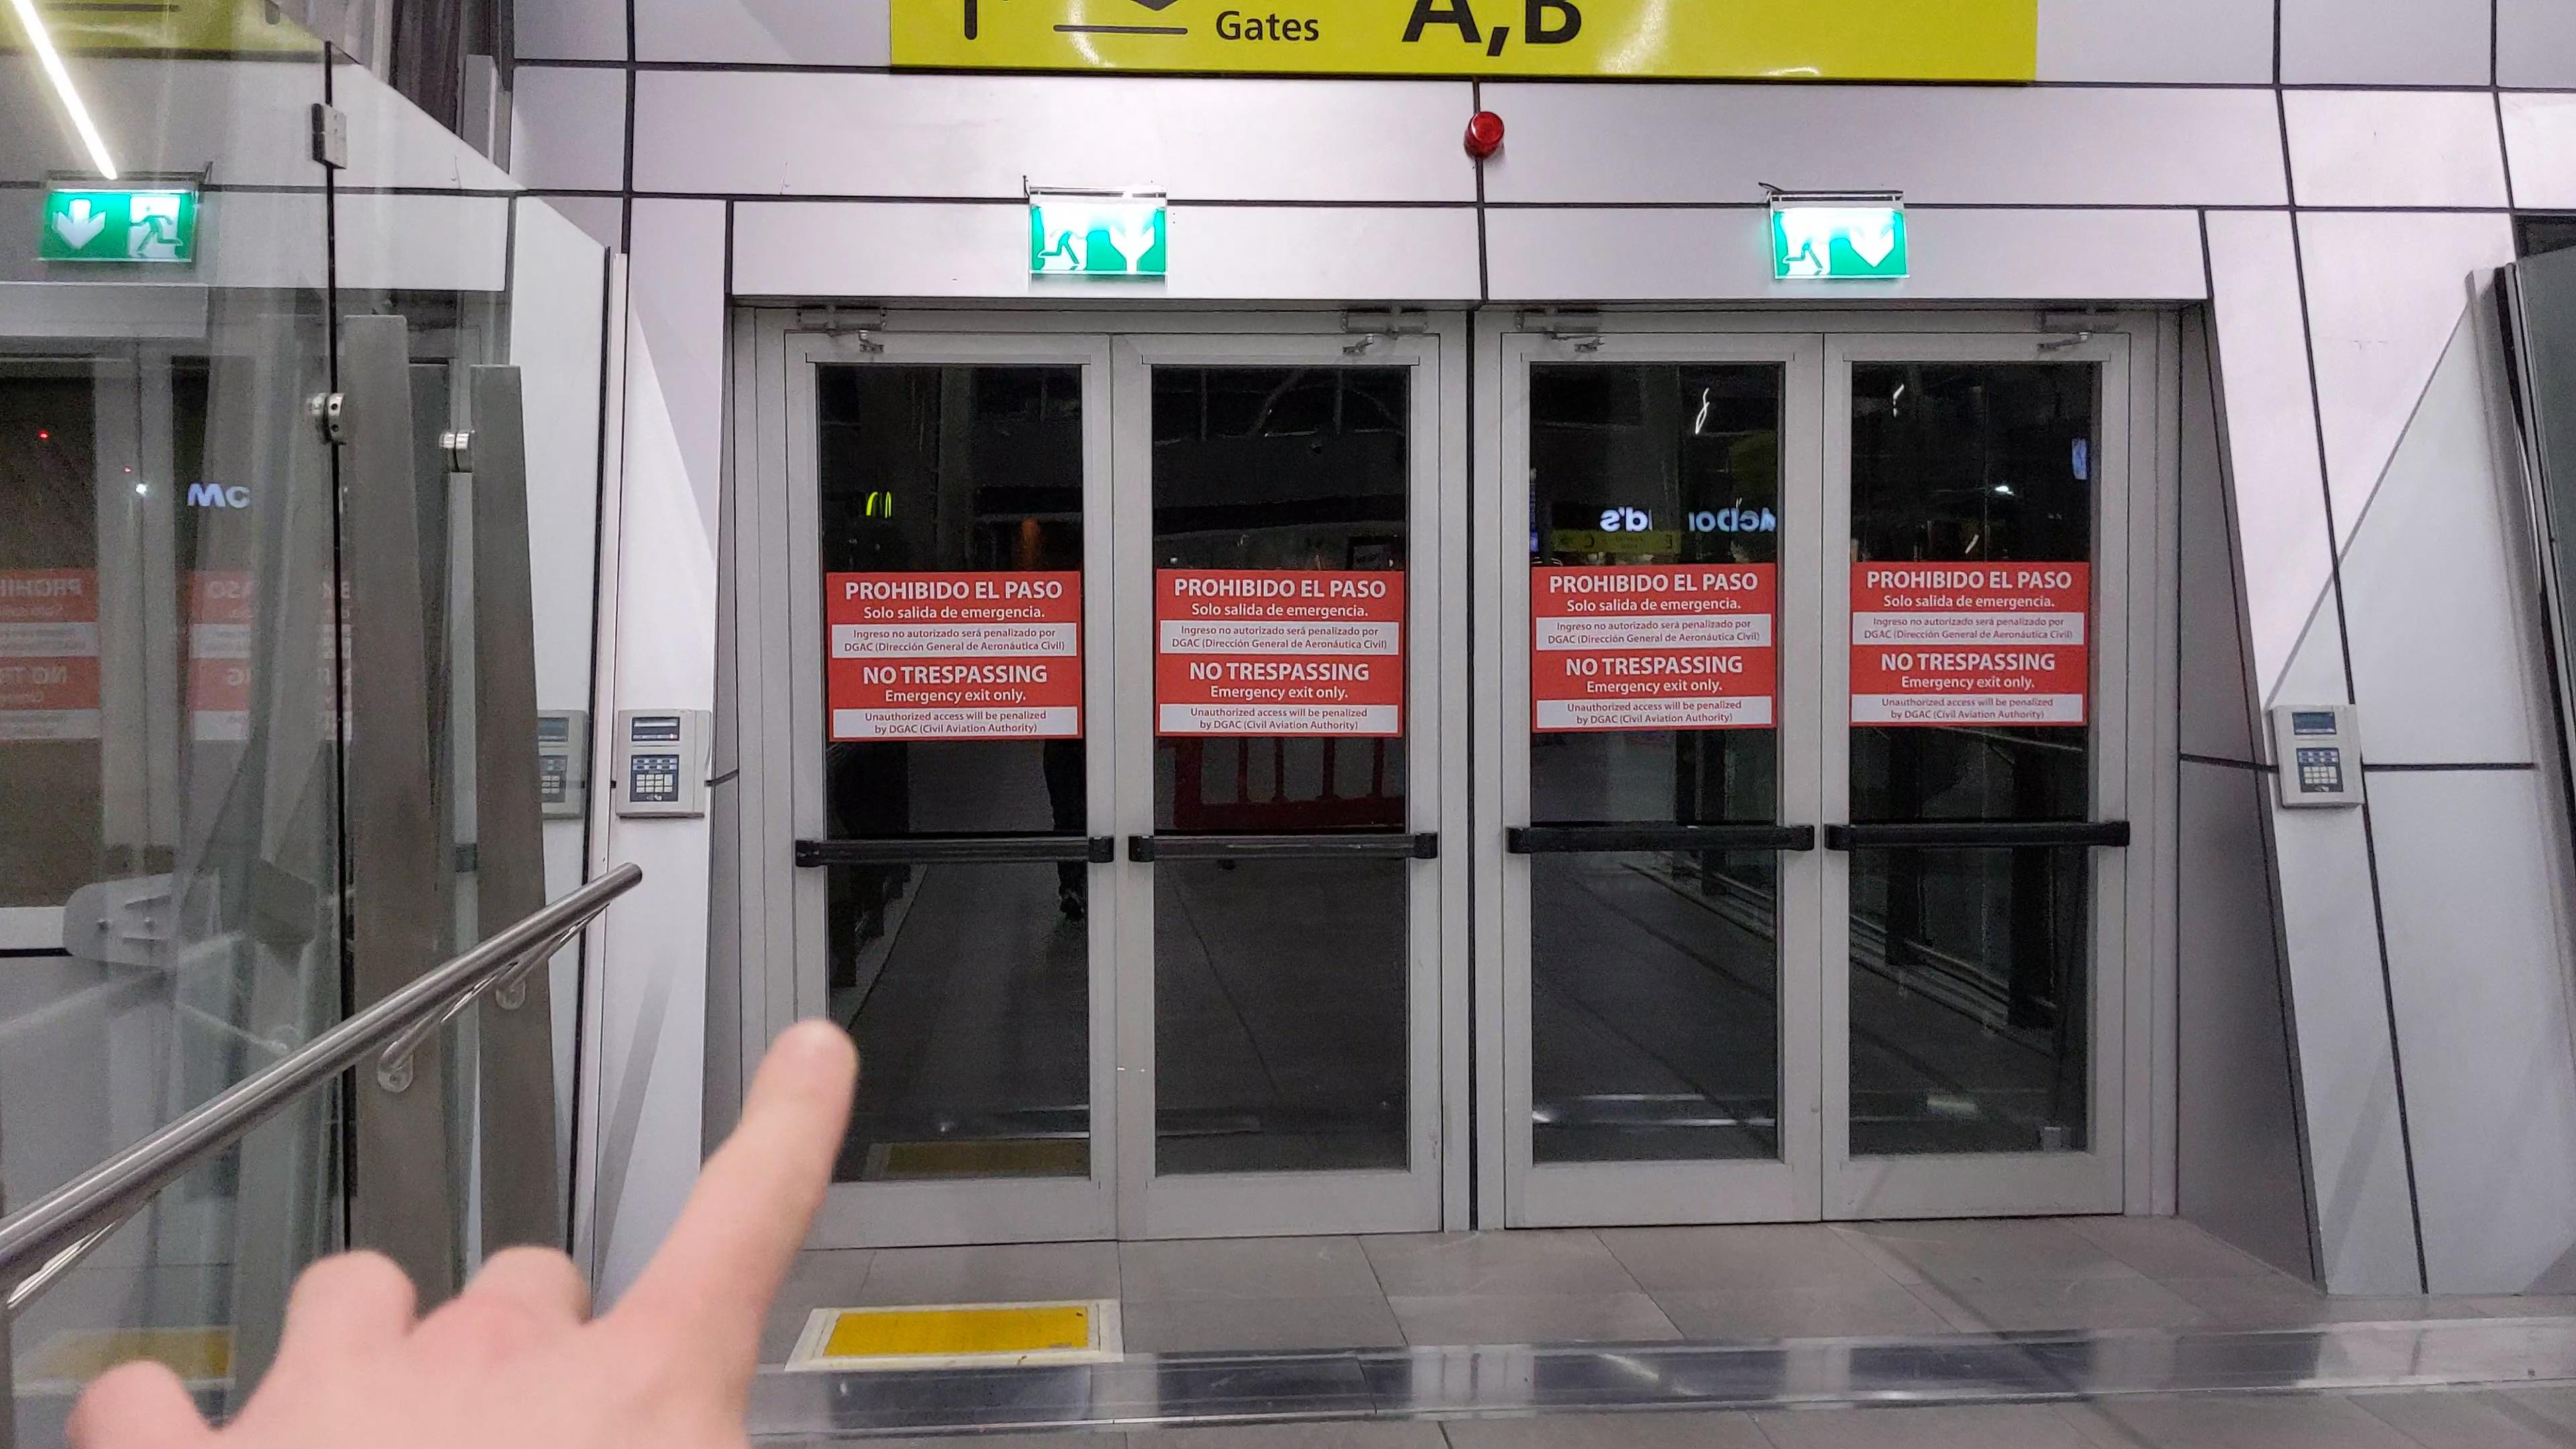emergency down arrow: (1845, 214, 1897, 268)
emergency exit: (1780, 211, 1835, 280), (1037, 209, 1089, 272), (1108, 210, 1157, 265)
no trespassing: (1157, 570, 1408, 740), (823, 577, 1079, 740), (1526, 568, 1776, 730), (1859, 559, 2083, 728)
